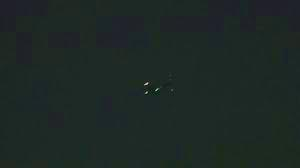Plane: (130, 77, 163, 98)
